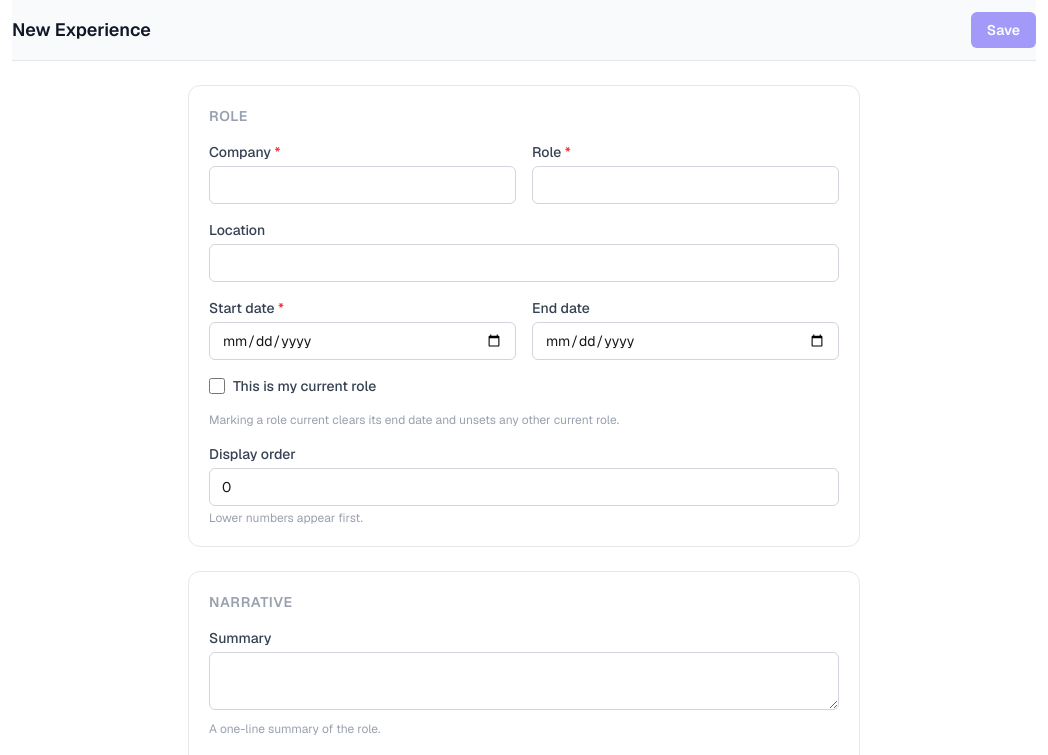
it: ExperienceEditor › current-role checkbox disables and clears the end date
The image size is (1048, 755).
In the date field labelled "End date": {"x": 686, "y": 341} [532,322,839,360], type "2025-12-31"
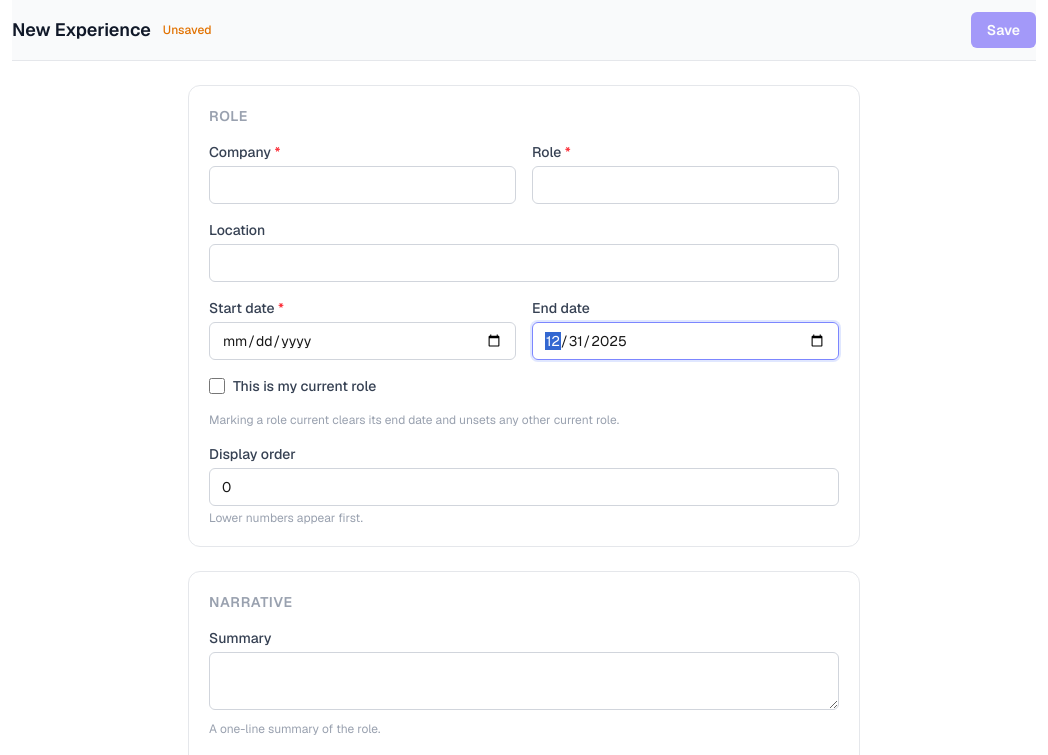
Click the checkbox labelled "This is my current role": {"x": 217, "y": 386} [209,378,225,394]
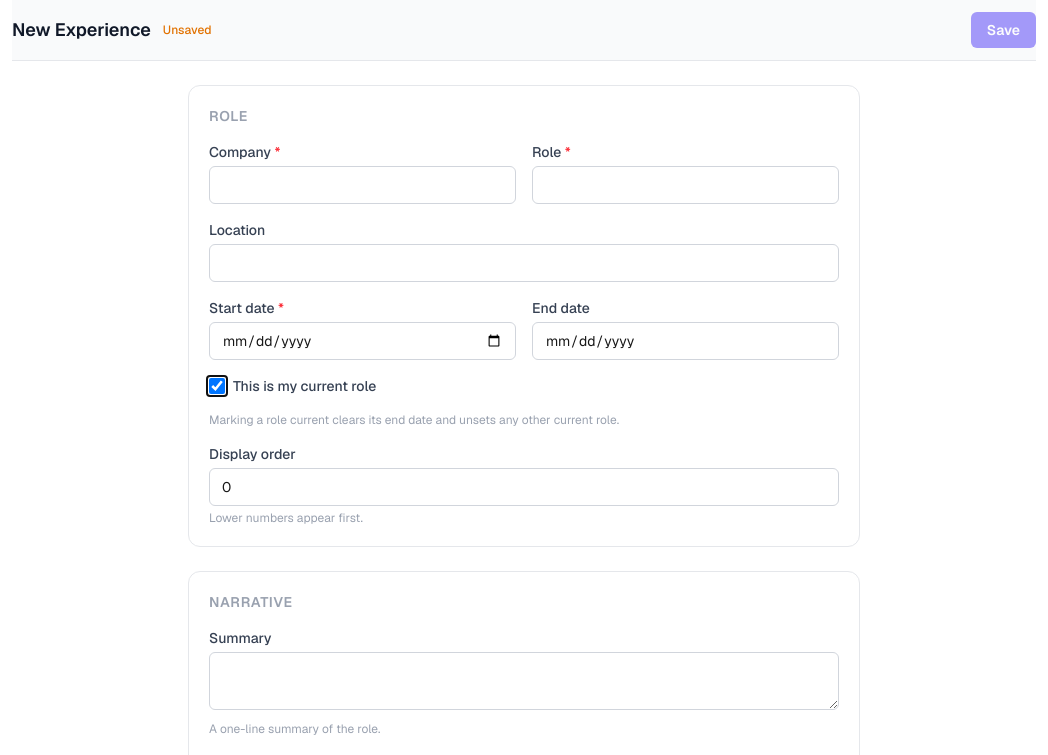
expect the date field labelled "End date" is disabled: met, box [532,322,839,360]
expect the date field labelled "End date" is empty: met, box [532,322,839,360]
